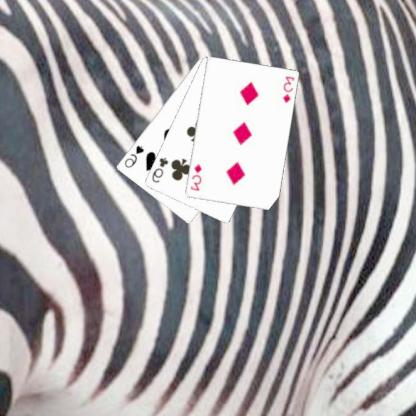3D: (189, 161, 205, 192), (282, 73, 297, 105)
6C: (151, 155, 171, 184)
9S: (123, 142, 147, 169)
